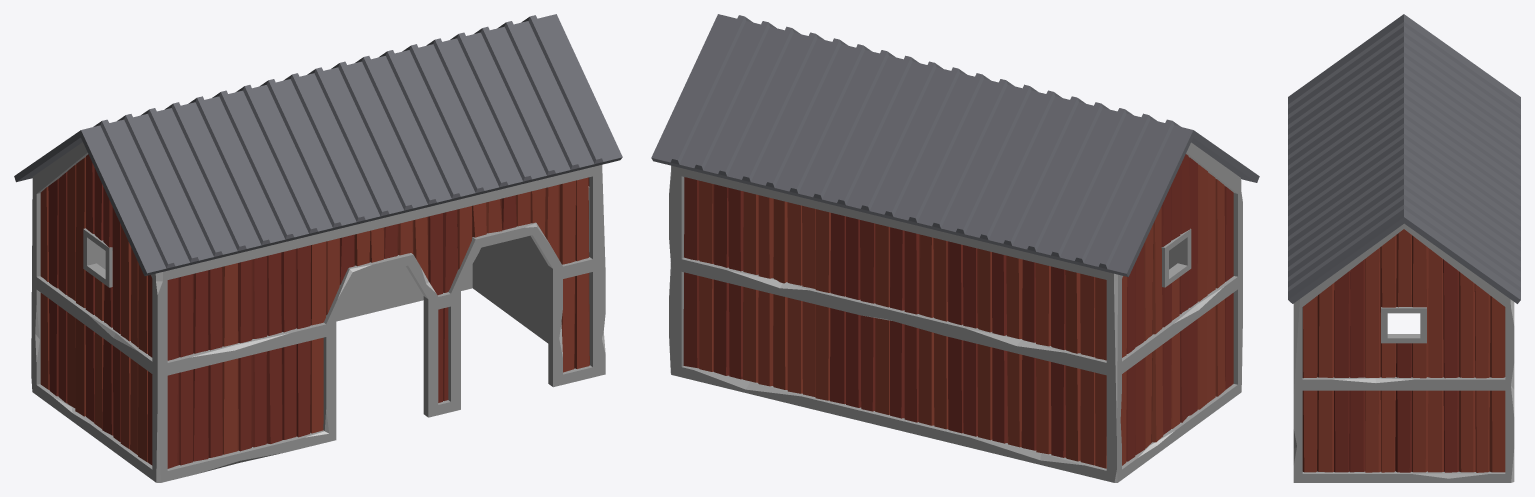
The model's file is Shed_1b.fbx.
3 views of the same model, side by side, from view 1: azimuth 30°, elevation 25°; view 2: azimuth 150°, elevation 25°; view 3: azimuth 270°, elevation 25° (orthographic). The views are drawn at different scales.
Parts seen in each view (by area): view 1: Shed_1b; view 2: Shed_1b; view 3: Shed_1b.
Boxes of the visible parts, bbox=[...] form: Shed_1b: bbox=[14, 14, 622, 482]; Shed_1b: bbox=[651, 14, 1259, 482]; Shed_1b: bbox=[1288, 14, 1520, 482].
Size of the model in its own units: 360 by 228 by 175.
